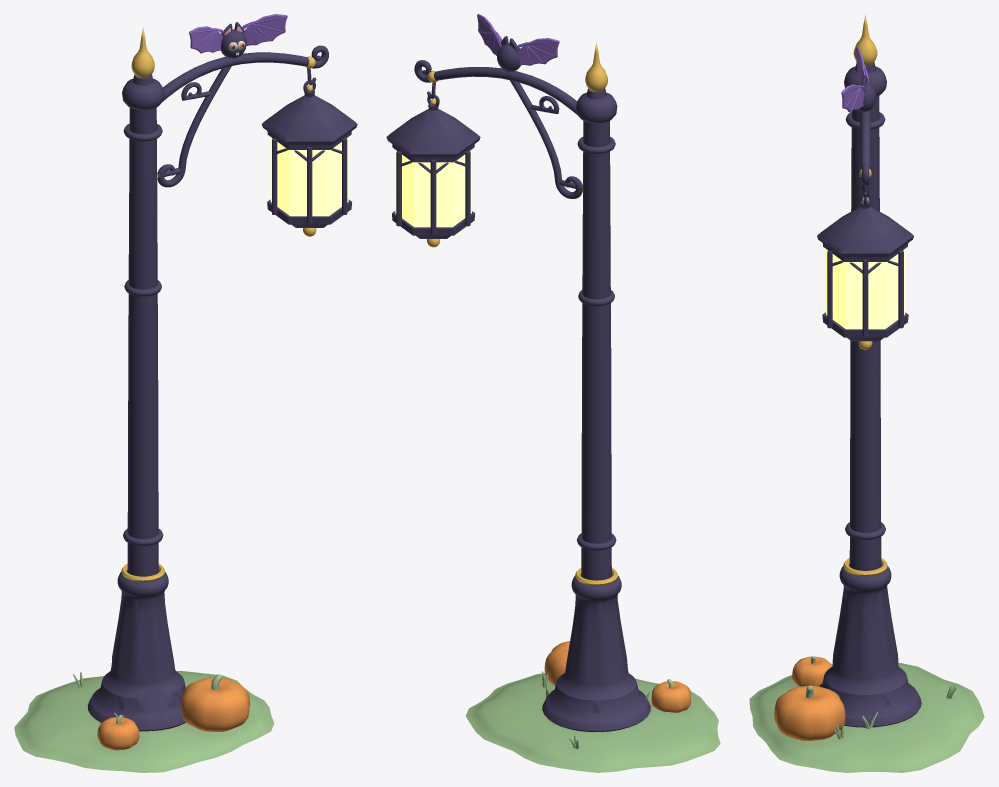
Rendered from farola_tenebrosa.glb.
3 renders of one model, left to right at view 1: azimuth 30°, elevation 25°; view 2: azimuth 150°, elevation 25°; view 3: azimuth 270°, elevation 25°, orthographic. The views are drawn at different scales.
Visible parts, largest first — view 1: spooky-lamp-post_body; view 2: spooky-lamp-post_body; view 3: spooky-lamp-post_body.
Boxes of the visible parts, x1,y1,x2,y2 form: spooky-lamp-post_body: (14, 14, 357, 772); spooky-lamp-post_body: (386, 14, 720, 772); spooky-lamp-post_body: (749, 14, 984, 772).
Size of the model in its own units: 1.09 by 2.24 by 0.676.
Materials: 3 (2 with a texture image).
